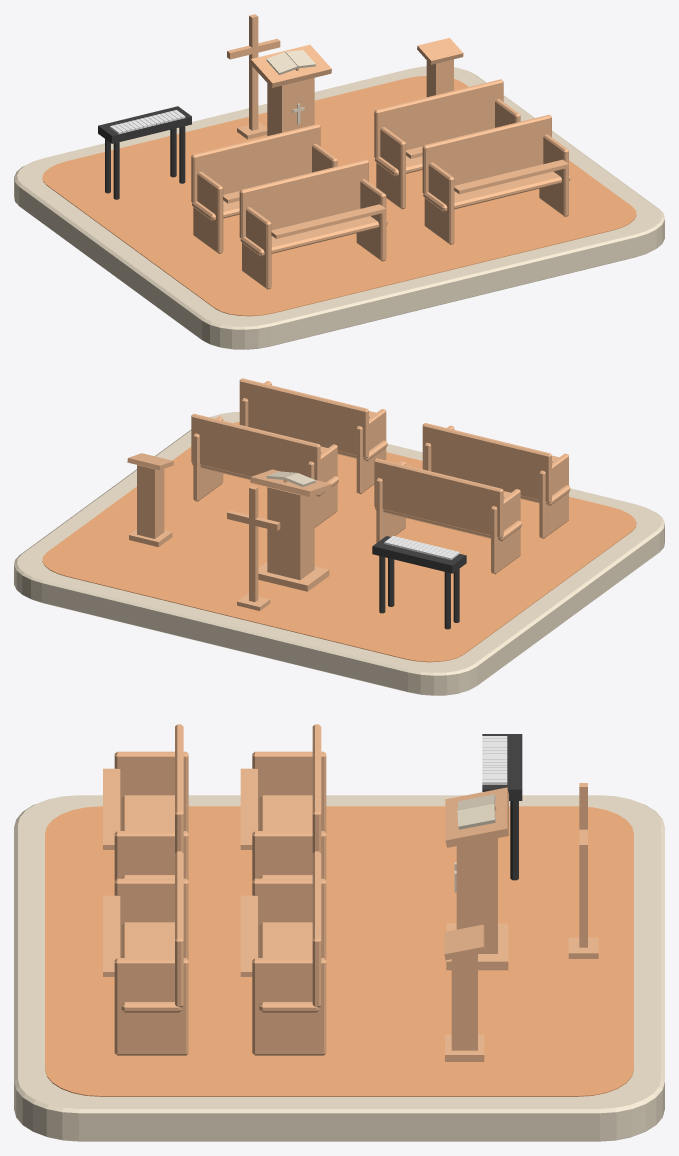
The picture shows the model from 3 angles, top to bottom: view 1: azimuth 30°, elevation 25°; view 2: azimuth 150°, elevation 25°; view 3: azimuth 270°, elevation 25°; orthographic projection. The views are drawn at different scales.
Parts seen in each view (by area): view 1: COM-02 Floor Surface, COM-01 Rounded Base Direct, Back.003, Back.002, Back.001, Back, Body, End panel.006, End panel, End panel.004, Seat.002, Seat.003 (+12 smaller); view 2: COM-02 Floor Surface, COM-01 Rounded Base Direct, Back, Back.002, Back.003, Back.001, Body, Body.001, End panel, End panel.004, End panel.006, End panel.002 (+9 smaller); view 3: COM-02 Floor Surface, COM-01 Rounded Base Direct, End panel.007, End panel.003, Body, End panel, End panel.004, End panel.006, End panel.002, End panel.005, End panel.001, Seat.001 (+20 smaller).
Boxes of the visible parts, x1,y1,x2,y2 form: COM-02 Floor Surface: (42, 76, 636, 316); COM-01 Rounded Base Direct: (14, 66, 664, 349); Back.003: (422, 114, 551, 193); Back.002: (239, 159, 368, 238); Back.001: (374, 79, 503, 158); Back: (191, 124, 320, 202); Body: (267, 78, 314, 135); End panel.006: (424, 162, 454, 244); End panel: (193, 171, 223, 253); End panel.004: (242, 207, 271, 289); Seat.002: (240, 209, 387, 256); Seat.003: (423, 164, 570, 211); COM-02 Floor Surface: (42, 422, 636, 662); COM-01 Rounded Base Direct: (14, 412, 664, 695); Back: (374, 458, 503, 538); Back.002: (422, 423, 551, 502); Back.003: (239, 378, 368, 458); Back.001: (191, 413, 320, 480); Body: (267, 487, 314, 579); Body.001: (137, 465, 164, 538); End panel: (491, 489, 520, 574); End panel.004: (539, 453, 568, 538); End panel.006: (356, 409, 386, 494); End panel.002: (308, 444, 337, 527); COM-02 Floor Surface: (45, 806, 633, 1096); COM-01 Rounded Base Direct: (14, 795, 664, 1141); End panel.007: (114, 958, 188, 1055); End panel.003: (252, 958, 326, 1055); Body: (456, 838, 497, 953); End panel: (252, 751, 326, 832); End panel.004: (114, 751, 188, 832); End panel.006: (114, 878, 188, 959); End panel.002: (252, 878, 326, 959); End panel.005: (114, 831, 188, 880); End panel.001: (252, 831, 326, 880); Seat.001: (259, 922, 319, 1012).
Bounding box in the file's own units: 6 × 1.76 × 5.2.
1 material, 1 textured.
